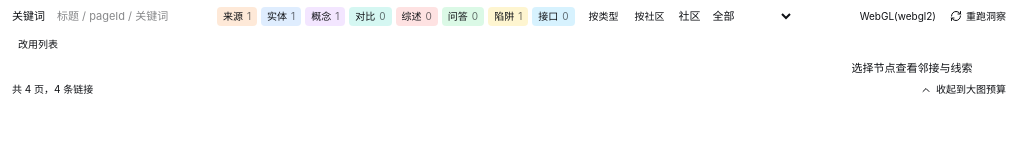
Test case: KbWikiGraph — 画布模式（WebGL 可用） › 关键词过滤命中标题、pageId 与页面关键词
Type "clkmgr" into the field with test id "kb-graph-keyword". click: (129, 16)
box: [49,6,209,26]
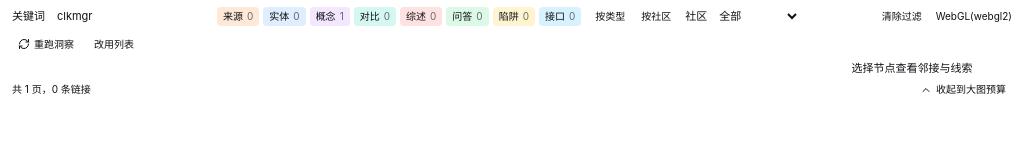
Now the text with test id "kb-graph-coverage" shows "共 1 页", box [12,83,91,95]
Replace the text in the field with test id "kb-graph-keyword" with "不存在的词". click: (129, 16)
box: [49,6,209,26]
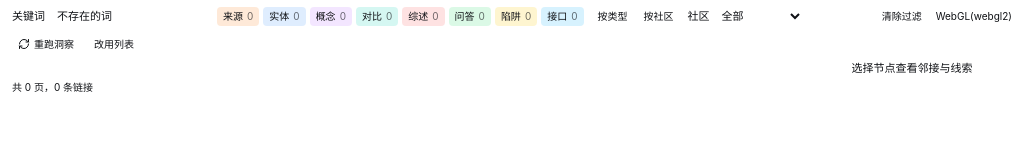
Now the text with test id "kb-graph-coverage" shows "共 0 页", box [12,81,93,93]
